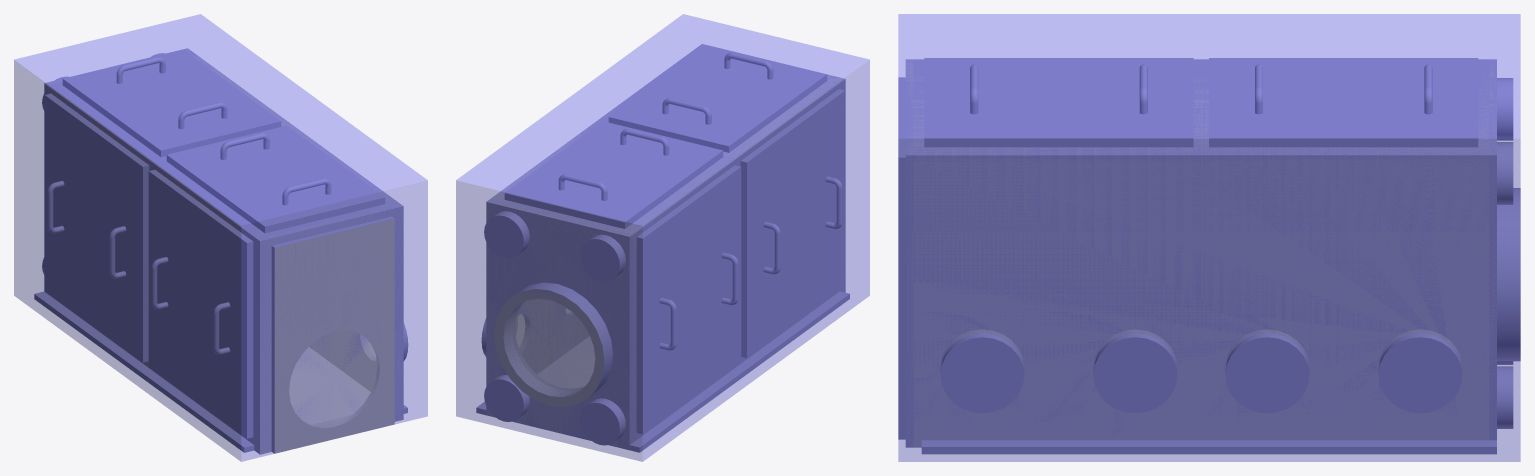
File: DetChamberContainer.gltf
The picture shows the model from 3 angles, left to right: view 1: azimuth 30°, elevation 25°; view 2: azimuth 150°, elevation 25°; view 3: azimuth 270°, elevation 25°; orthographic projection. The views are drawn at different scales.
Parts seen in each view (by area): view 1: logicDetChamberContainer_pv0x21fa9d0, DetChamberCoverRight0x21f38c0, DetChamberCoverRight0x21f3a00, DetChamberCoverTop0x21f3380, DetChamberCoverTop0x21f34d0, DetChamberWinPanelTop0x21f2ef0, DetChamberWinPanel0x21ef8f0, DetChamberWinPipeVac0x21efe50, DetChamberBackPanel0x21e6f60, DetChamberAsemblyVolume0x21eead0, DetChamberTopPanel0x21da070, DetChamberOpticBoard0x21fa250 (+6 smaller); view 2: logicDetChamberContainer_pv0x21fa9d0, DetChamberCoverRight0x21f3a00, DetChamberCoverRight0x21f38c0, DetChamberFrontPanel0x21e8110, DetChamberCoverTop0x21f34d0, DetChamberCoverTop0x21f3380, DetChamberAsemblyVolume0x21eead0, DetChamberFrontPipeVac0x21ee980, DetChamberFrontPipe0x21ee840, DetChamberTopPanel0x21da070, DetChamberBottomExt0x21ef0a0, DetChamberLeftPanel0x21e9800 (+6 smaller); view 3: logicDetChamberContainer_pv0x21fa9d0, DetChamberLeftPanel0x21e9800, DetChamberAsemblyVolume0x21eead0, DetChamberCoverTop0x21f34d0, DetChamberCoverTop0x21f3380, DetChamberTopPanel0x21da070, DetChamberBottomExt0x21eef60, DetChamberLeftTap0x21eb470, DetChamberLeftTap0x21ec2a0, DetChamberLeftTap0x21ebc10, DetChamberLeftTap0x21eca10, DetChamberFrontPipe0x21ee840 (+7 smaller).
Part boxes in pixels (x1,y1,x2,y2): logicDetChamberContainer_pv0x21fa9d0: (14,14,427,461); DetChamberCoverRight0x21f38c0: (148,170,253,438); DetChamberCoverRight0x21f3a00: (44,93,149,362); DetChamberCoverTop0x21f3380: (166,125,385,233); DetChamberCoverTop0x21f34d0: (62,49,281,156); DetChamberWinPanelTop0x21f2ef0: (271,216,394,310); DetChamberWinPanel0x21ef8f0: (271,314,394,453); DetChamberWinPipeVac0x21efe50: (289,331,379,427); DetChamberBackPanel0x21e6f60: (257,204,403,454); DetChamberAsemblyVolume0x21eead0: (44,51,401,454); DetChamberTopPanel0x21da070: (47,50,399,243); DetChamberOpticBoard0x21fa250: (289,347,370,425); logicDetChamberContainer_pv0x21fa9d0: (456,14,869,461); DetChamberCoverRight0x21f3a00: (636,165,741,433); DetChamberCoverRight0x21f38c0: (740,89,845,357); DetChamberFrontPanel0x21e8110: (486,200,632,449); DetChamberCoverTop0x21f34d0: (504,121,723,228); DetChamberCoverTop0x21f3380: (608,45,827,152); DetChamberAsemblyVolume0x21eead0: (486,75,844,448); DetChamberFrontPipeVac0x21ee980: (504,299,594,396); DetChamberFrontPipe0x21ee840: (494,282,612,406); DetChamberTopPanel0x21da070: (490,46,842,239); DetChamberBottomExt0x21ef0a0: (629,291,849,452); DetChamberLeftPanel0x21e9800: (517,299,589,373); logicDetChamberContainer_pv0x21fa9d0: (898,14,1520,461); DetChamberLeftPanel0x21e9800: (913,162,1488,439); DetChamberAsemblyVolume0x21eead0: (906,60,1496,447); DetChamberCoverTop0x21f34d0: (1209,58,1478,147); DetChamberCoverTop0x21f3380: (924,58,1193,147); DetChamberTopPanel0x21da070: (913,59,1488,162); DetChamberBottomExt0x21eef60: (921,440,1496,454); DetChamberLeftTap0x21eb470: (1378,333,1462,413); DetChamberLeftTap0x21ec2a0: (1093,333,1177,413); DetChamberLeftTap0x21ebc10: (1225,333,1309,413); DetChamberLeftTap0x21eca10: (940,333,1024,413); DetChamberFrontPipe0x21ee840: (1497,188,1520,361).
Bounding box in the file's own units: 71.05 × 85.82 × 150.
